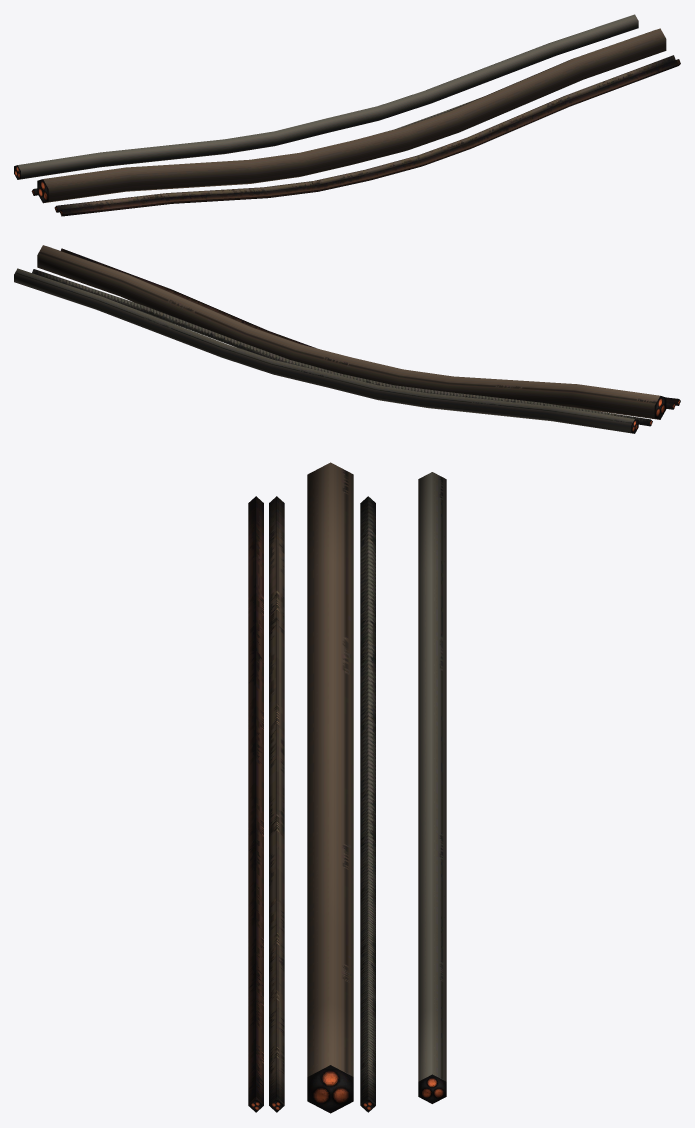
Rendered from multi_cable_hanging_01.dae.
3 renders of one model, top to bottom at view 1: azimuth 30°, elevation 25°; view 2: azimuth 150°, elevation 25°; view 3: azimuth 270°, elevation 25°, orthographic. The views are drawn at different scales.
Visible parts, largest first — view 1: polySurface11; view 2: polySurface11; view 3: polySurface11.
Part boxes in pixels (x1,y1,x2,y2): polySurface11: (14,14,680,216); polySurface11: (14,245,680,433); polySurface11: (248,462,446,1113).
Bounding box in the file's own units: 4 × 0.3914 × 0.5562.
